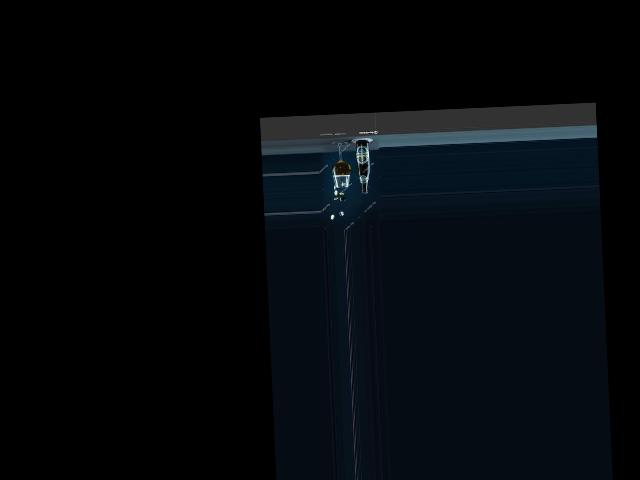beer: (355, 140, 370, 193)
